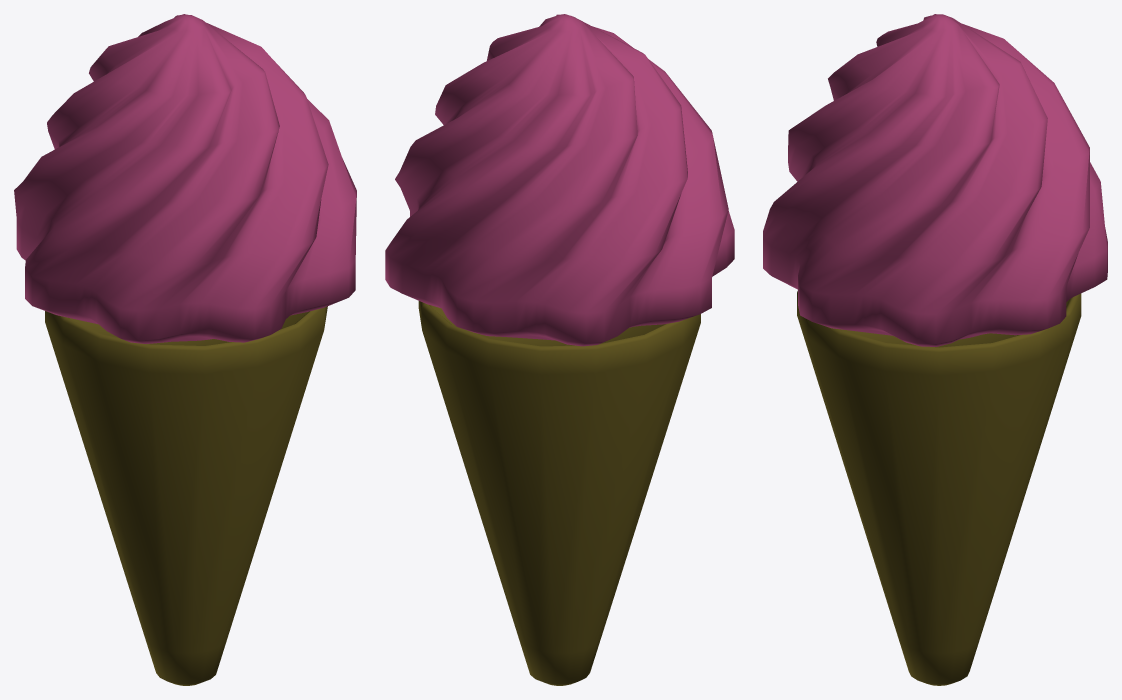
File: Ice cream_3.FBX
3 views of the same model, side by side, from view 1: azimuth 30°, elevation 25°; view 2: azimuth 150°, elevation 25°; view 3: azimuth 270°, elevation 25° (orthographic).
Parts seen in each view (by area): view 1: Ice cream_3; view 2: Ice cream_3; view 3: Ice cream_3.
Boxes of the visible parts, x1,y1,x2,y2 form: Ice cream_3: (14,14,356,685); Ice cream_3: (385,14,734,685); Ice cream_3: (763,14,1107,685).
Size of the model in its own units: 614 by 604 by 1282.
